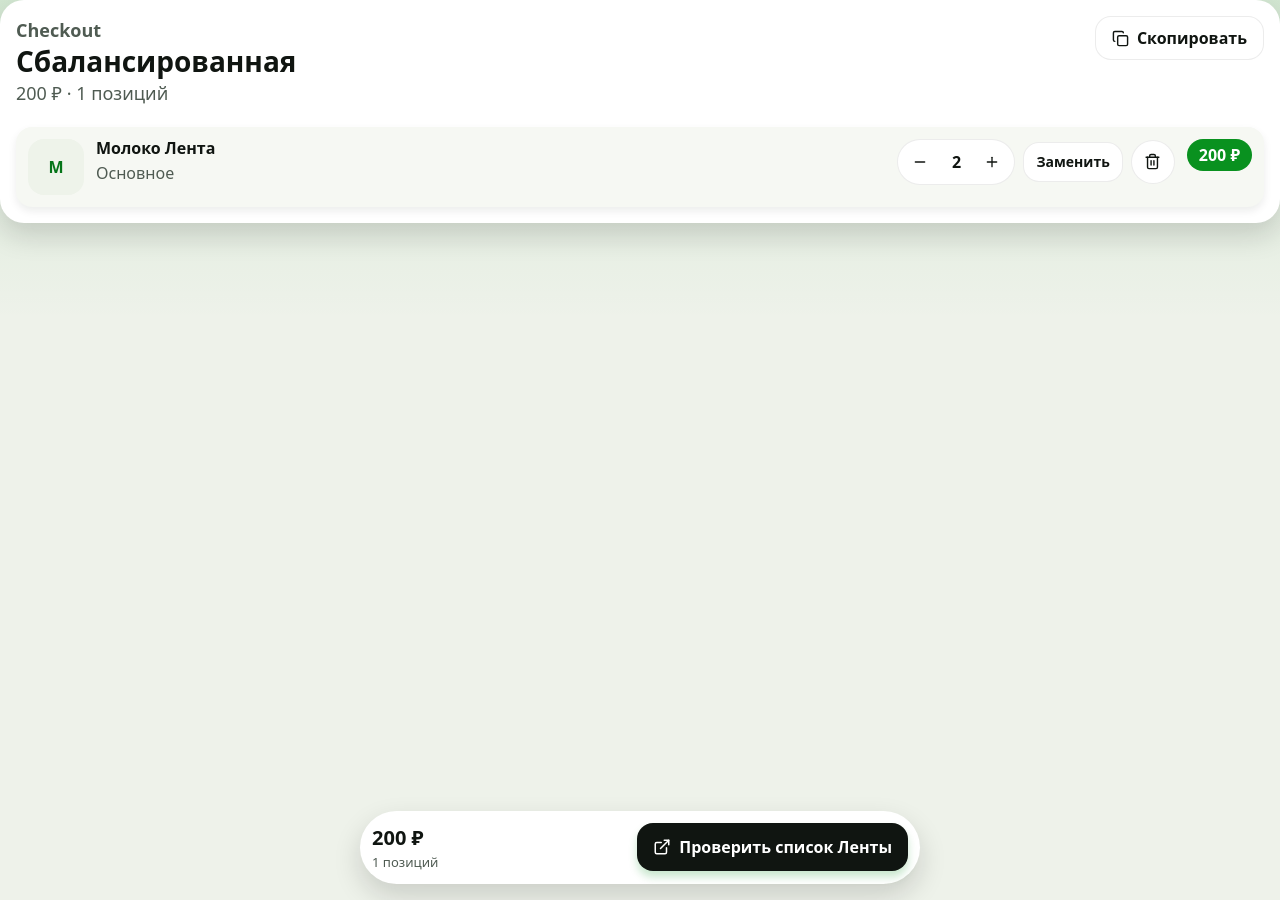
SelectedBasketActions › copies the refreshed Lenta list and offers the official Lenta basket after validation
The image size is (1280, 900).
Click the button "Проверить список Ленты" at (773, 847), box [637,823,908,871]
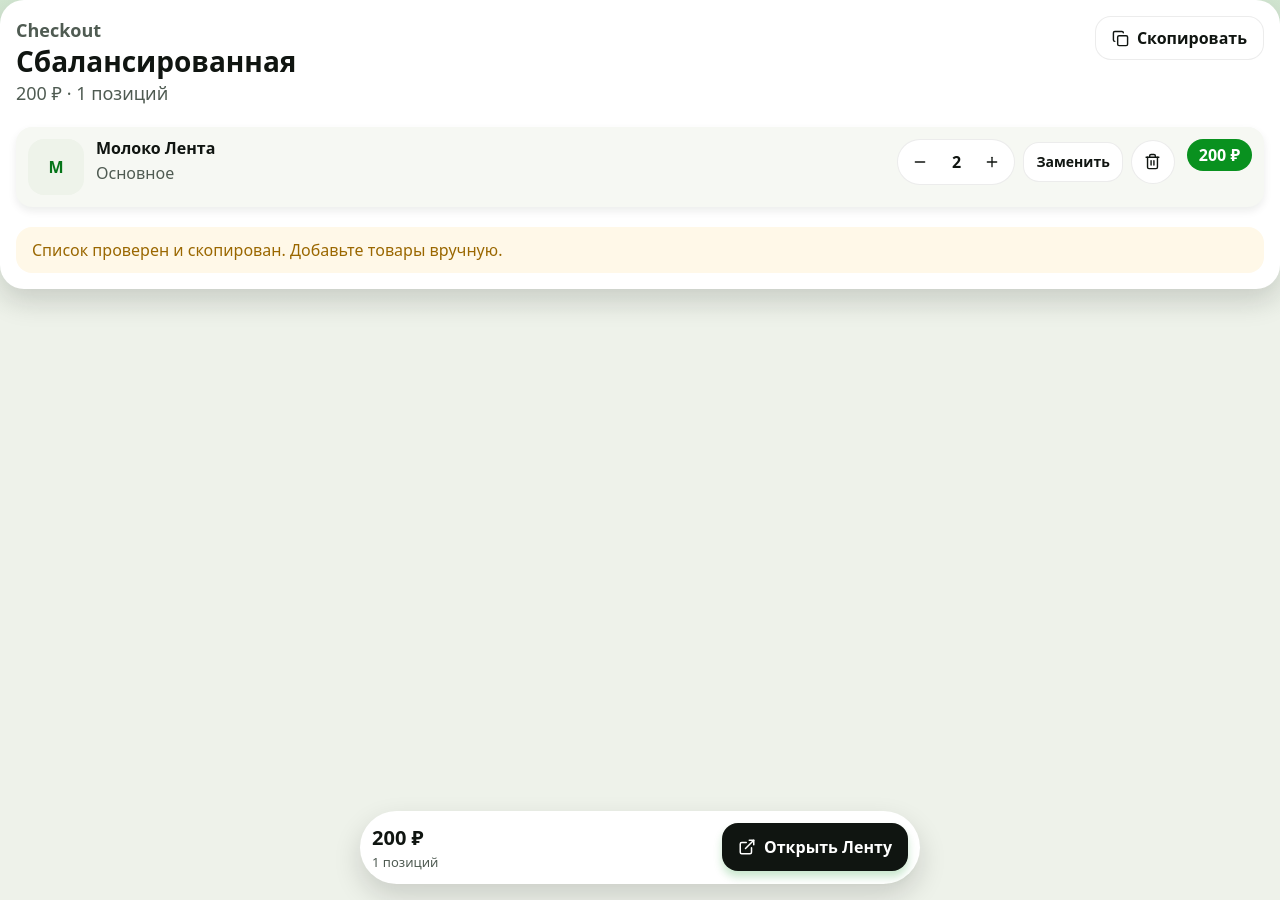
expect the message shows "Список проверен и скопирован": met, box [32,239,502,261]
